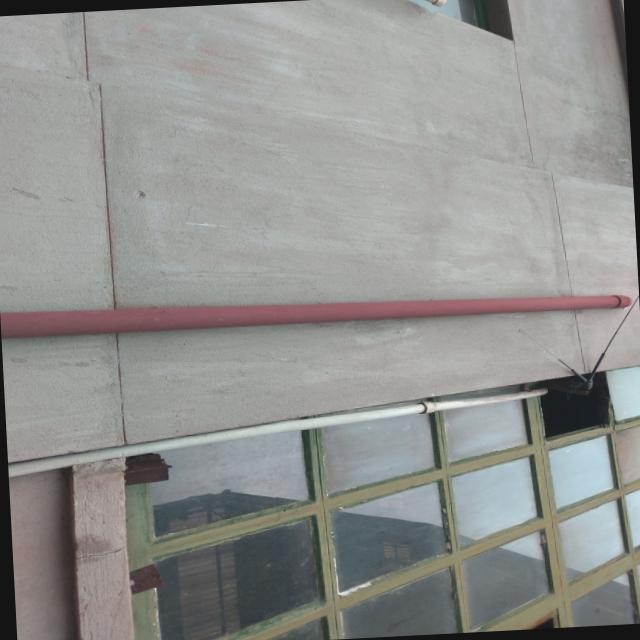gas: (0, 278, 631, 341)
